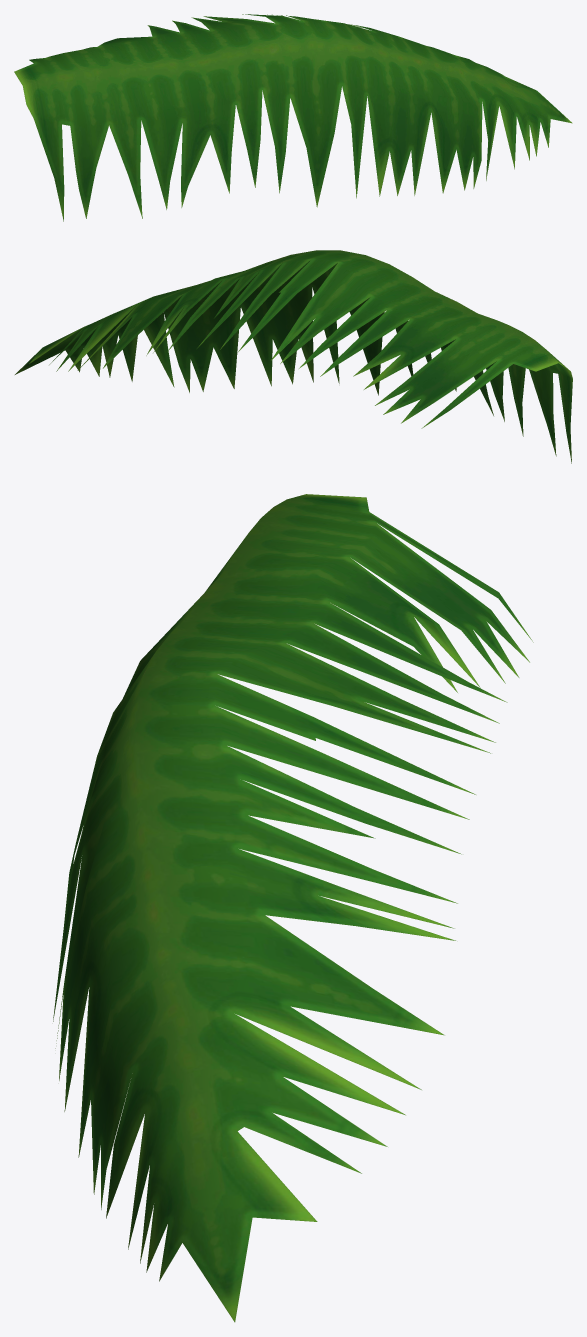
The model's file is palm_leaves_palm_leaves_0_003.obj.
The picture shows the model from 3 angles, top to bottom: view 1: azimuth 30°, elevation 25°; view 2: azimuth 150°, elevation 25°; view 3: azimuth 270°, elevation 25°; orthographic projection. The views are drawn at different scales.
Visible parts, largest first — view 1: palm_leaves_palm_leaves_0.003; view 2: palm_leaves_palm_leaves_0.003; view 3: palm_leaves_palm_leaves_0.003.
Part boxes in pixels (<box>): palm_leaves_palm_leaves_0.003: <box>14,14,572,221</box>; palm_leaves_palm_leaves_0.003: <box>15,250,572,463</box>; palm_leaves_palm_leaves_0.003: <box>53,494,533,1322</box>.
Bounding box in the file's own units: 30.29 × 10.04 × 11.78.
Materials: 1 (1 with a texture image).
